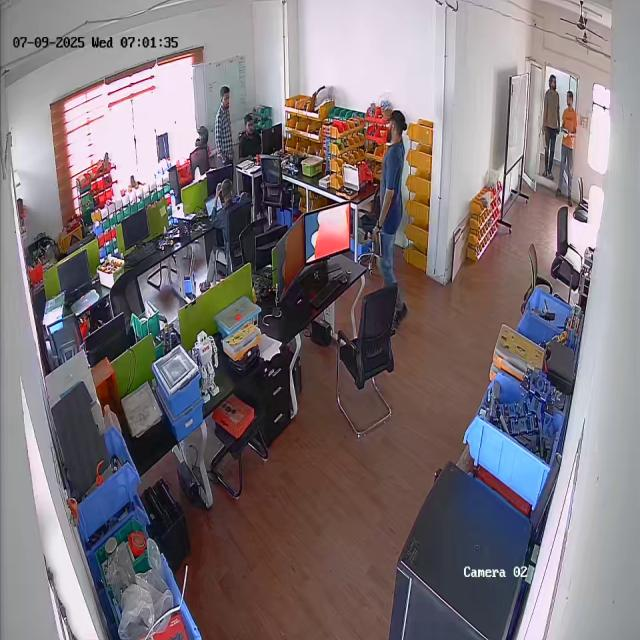person: (373, 110, 408, 329), (211, 178, 246, 266), (559, 90, 578, 206), (215, 85, 238, 171), (542, 72, 560, 180), (239, 113, 262, 161)
